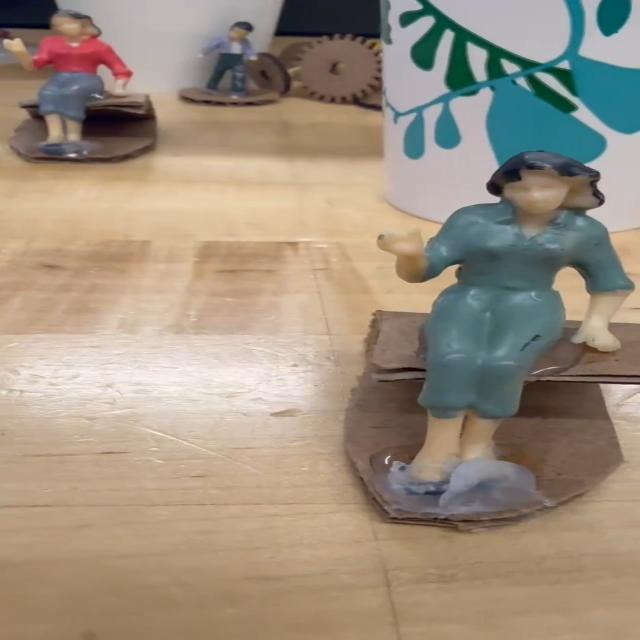Authorized: (306, 155, 640, 568)
